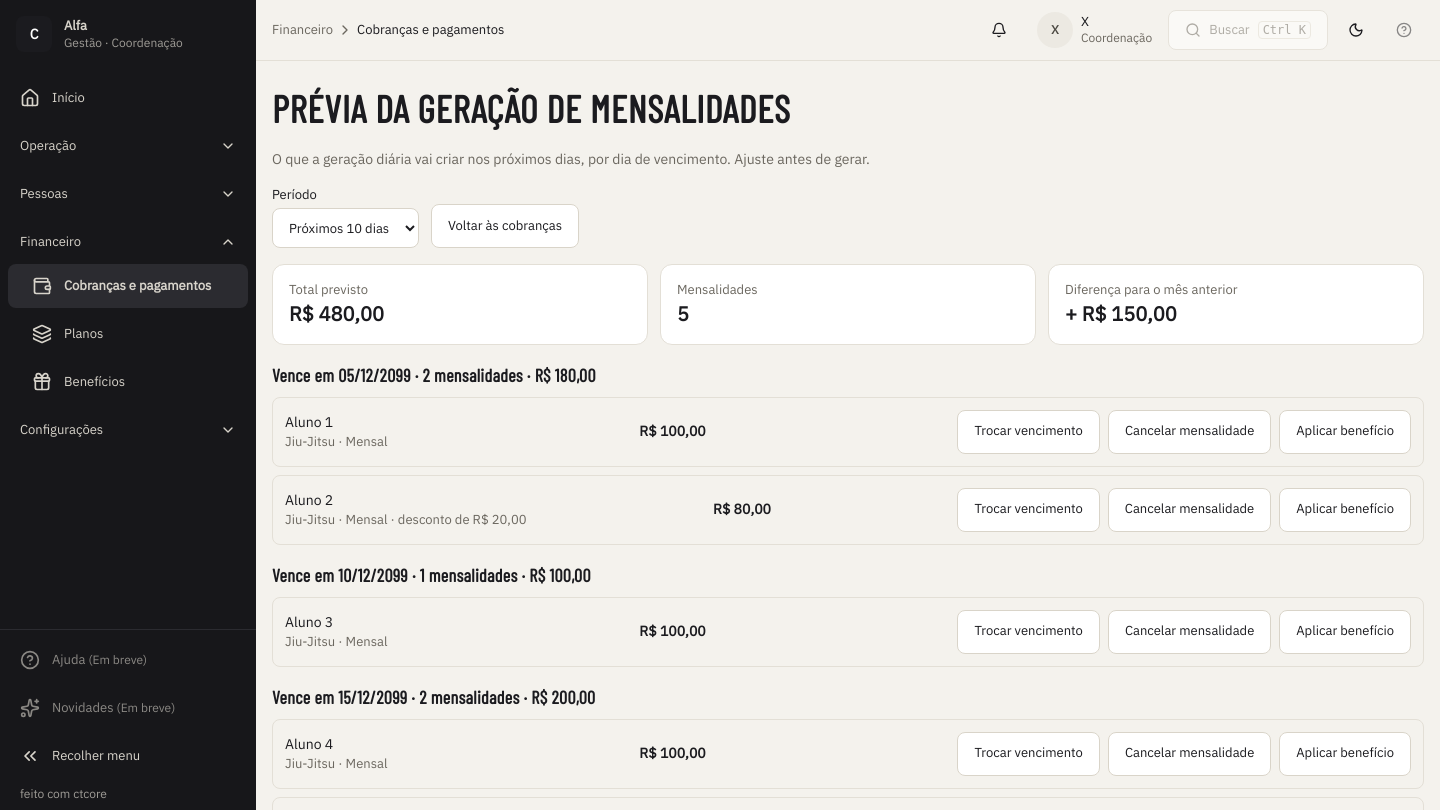
Test case: ChargePreviewPage (RF-COB-03) › CA14: Aplicar benefício abre a janela da concessão com aluno e modalidade
The width and height of the screenshot is (1440, 810).
Expected: the text "Total previsto" is shown, [289,281,368,298]
Click the button with aria-label "Aplicar benefício a Aluno 2" at (1345, 510), box [1279,488,1411,532]
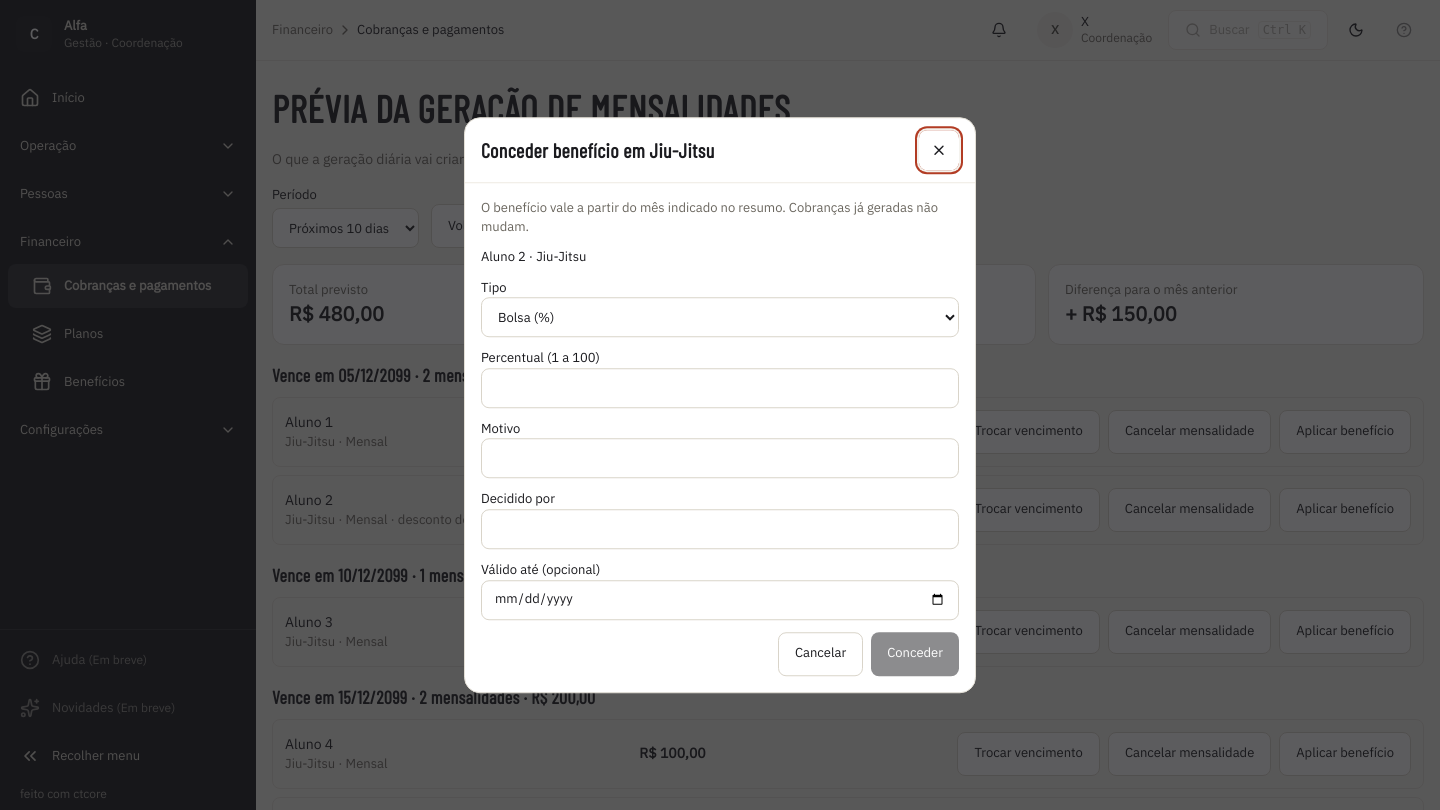
Result: the heading "Conceder benefício em Jiu-Jitsu" is shown at [481,136,714,164]
Result: the text "Aluno 2 · Jiu-Jitsu" is shown at [481,248,586,265]
